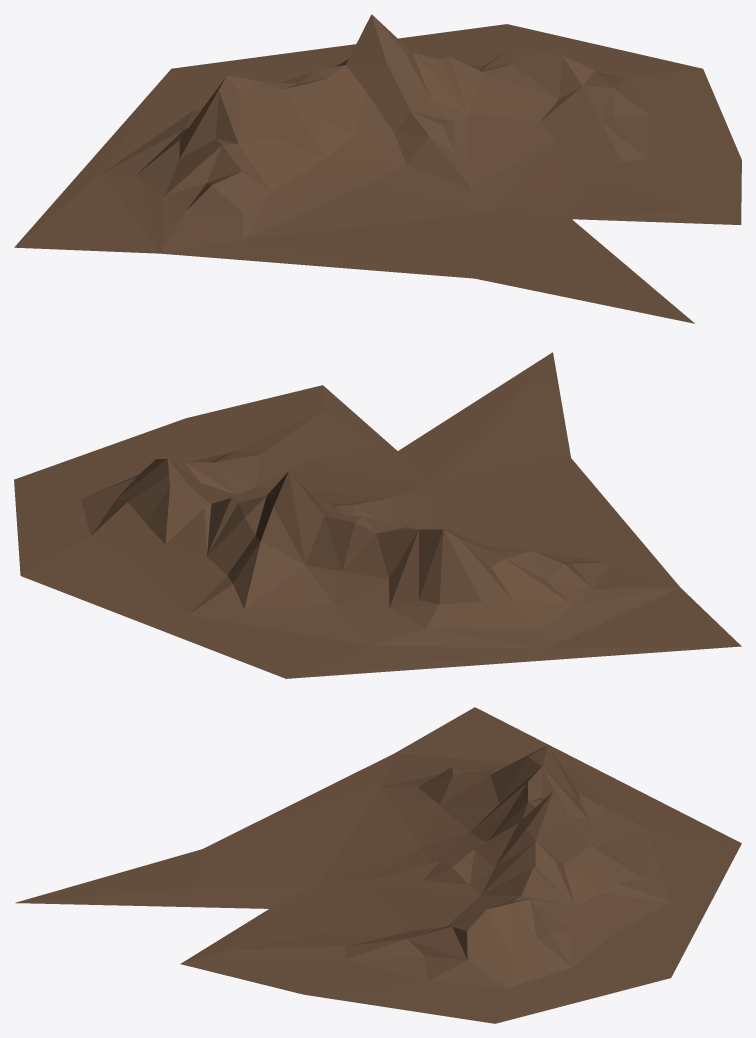
Rendered from browncapM.fbx.
3 views of the same model, one above another, from view 1: azimuth 30°, elevation 25°; view 2: azimuth 150°, elevation 25°; view 3: azimuth 270°, elevation 25° (orthographic). The views are drawn at different scales.
Visible parts, largest first — view 1: Plane; view 2: Plane; view 3: Plane.
Part boxes in pixels (box(x1,y1,x2,y2)): Plane: box(14, 14, 741, 323); Plane: box(14, 352, 741, 678); Plane: box(15, 707, 741, 1023).
Size of the model in its own units: 182 by 26.05 by 176.
